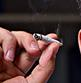smoke: (33, 33, 61, 47)
